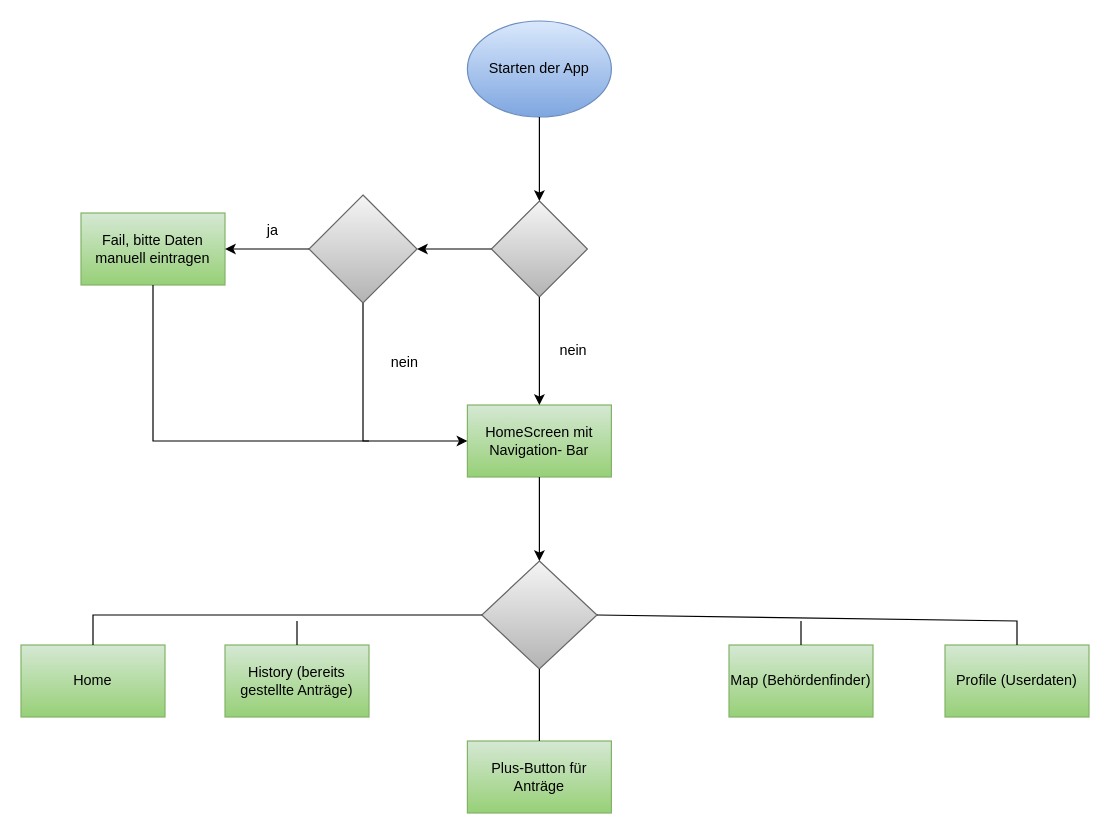
This 1110x834 diagram has some shape labels left out. Here are the shapes that lost their labels. From the top down, the box of each, then its label:
(308, 194, 417, 303): ID einscannen?
(490, 200, 587, 297): Erststart?
(481, 560, 597, 669): Aktionswahl mit Icon/ Button
